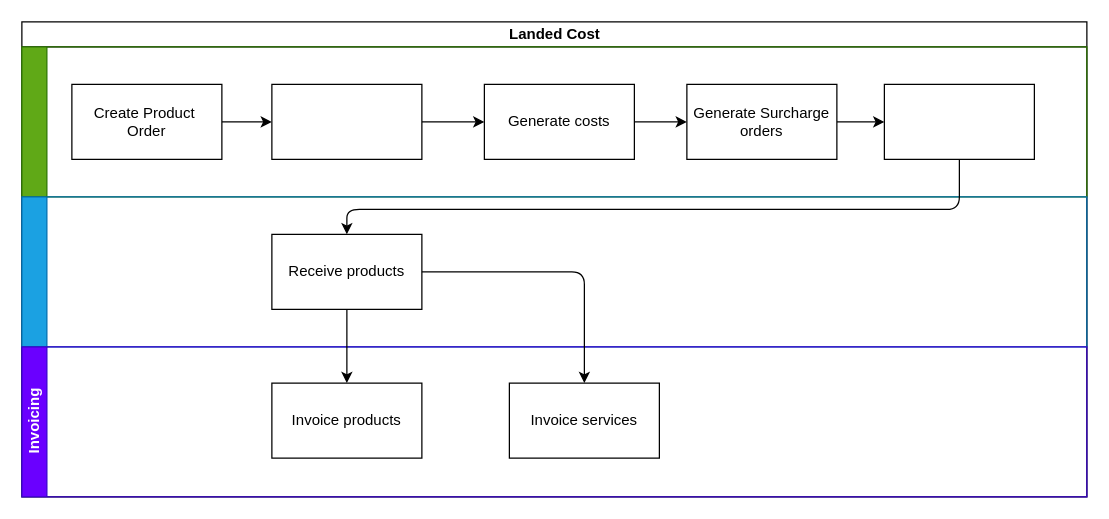
This 1109x519 diagram has some shape labels left out. Here are the shapes that lost their labels. From the top down, the box of each, then its label:
(271, 83, 422, 159): Assign landed cost template
(21, 46, 1087, 197): Porcurement
(883, 83, 1034, 159): Release
(21, 196, 1087, 347): Receiving
